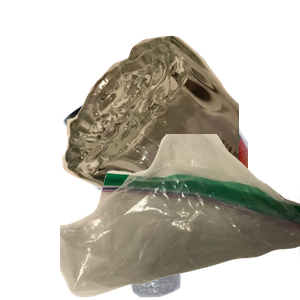glass: (60, 33, 300, 213)
metal: (60, 48, 300, 228)
plastic: (115, 176, 288, 300)
trash: (60, 134, 300, 300)
